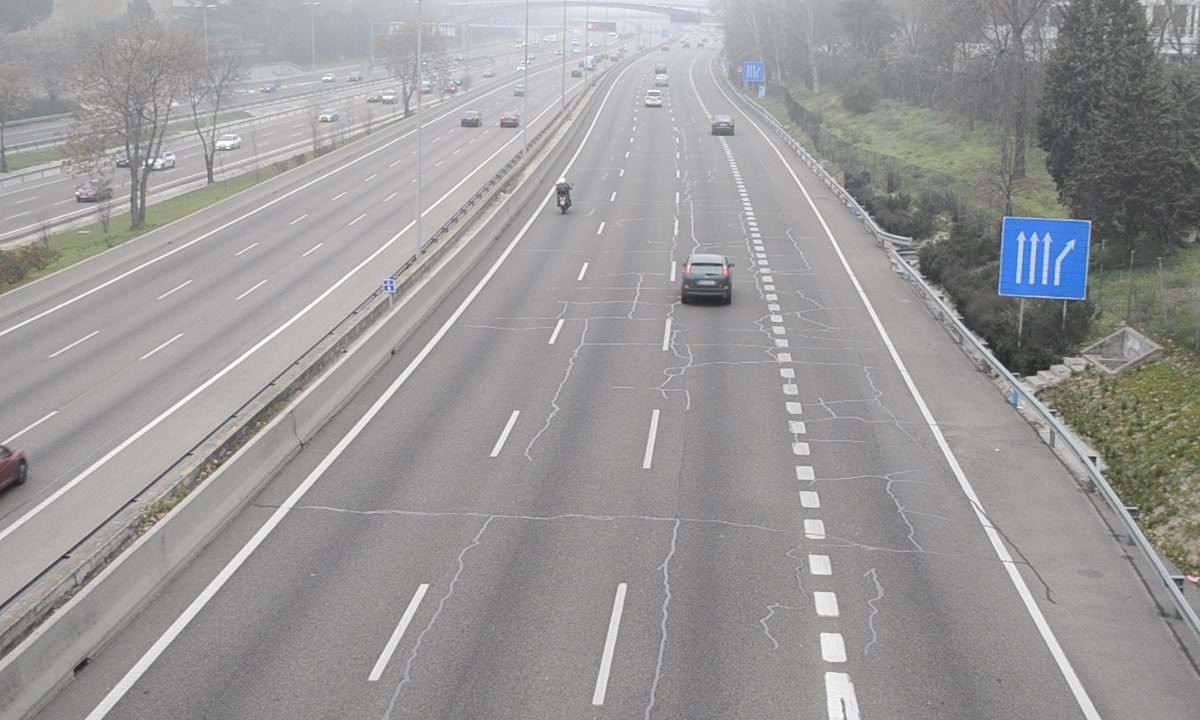car: (681, 253, 732, 305), (711, 116, 733, 137), (646, 90, 663, 108)
motorcycle: (553, 179, 573, 218)
